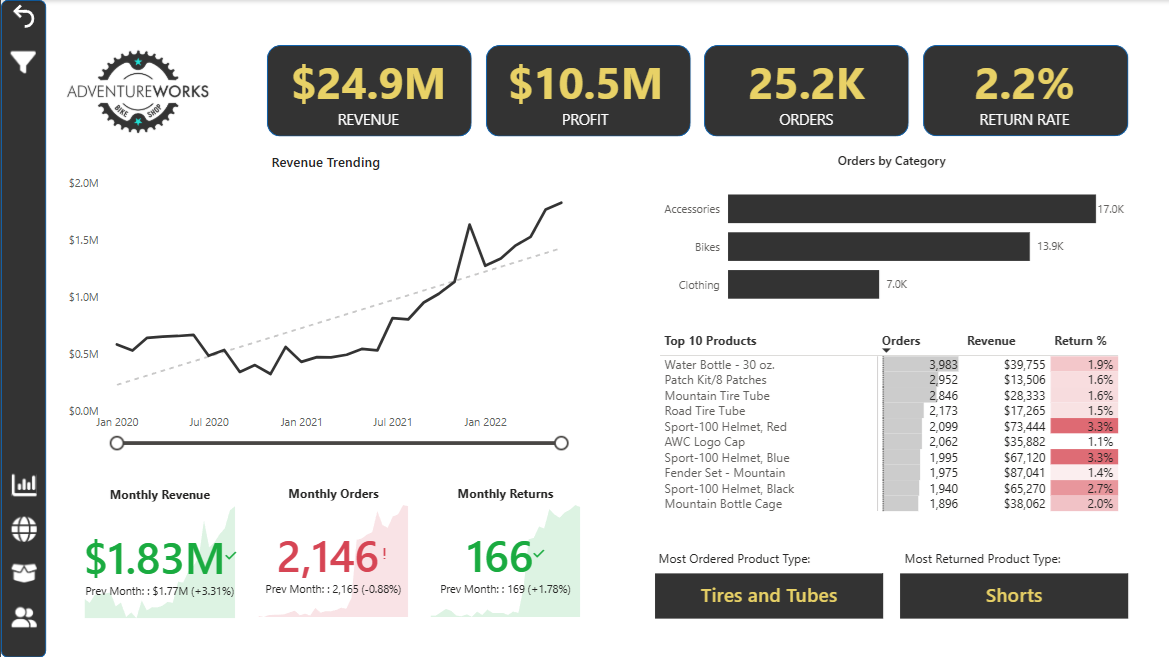

This screenshot's page, from the dashboard's own definition file:
{"tool":"powerbi","page":{"name":"Exec Dashboard","canvas":[1280,720],"ordinal":0},"visuals":[{"type":"shape","title":"LeftNavBackground","box":[0,0,49.6,720.6],"z":0},{"type":"group","id":"g1","title":"KPIBackground","box":[291.5,49.6,943.5,100.5],"z":0,"group":"g4"},{"type":"shape","title":"KPIBkgnd1","box":[291.5,49.6,224.5,100.5],"z":0,"group":"g1"},{"type":"card","title":"crd-Revenue","fields":{"Values":["MeasuresTable.Total Revenue"]},"box":[302.4,49.6,200,99.3],"z":0,"group":"g2"},{"type":"actionButton","title":"btnNavCustomerDetail","box":[7.8,658.8,35.6,35.6],"z":0,"group":"g3"},{"type":"group","id":"g2","title":"KPI Cards","box":[302.4,49.6,919,99.3],"z":1000,"group":"g4"},{"type":"shape","title":"KPIBkgnd2","box":[531,49.6,224.5,100.5],"z":1000,"group":"g1"},{"type":"card","title":"crd-Profit","fields":{"Values":["MeasuresTable.Total Profit"]},"box":[540,49.6,200,99.3],"z":1000,"group":"g2"},{"type":"group","id":"g3","title":"NavButtons","box":[7.8,514.4,35.6,180],"z":1000},{"type":"actionButton","title":"btnNavExecDashboard","box":[7.8,514.4,35.6,35.6],"z":1000,"group":"g3"},{"type":"actionButton","title":"FilterButton","box":[6.7,50,35.6,35.6],"z":1500},{"type":"image","title":"AWLogo","box":[50,0,200,200],"z":2000},{"type":"shape","title":"KPIBkgnd3","box":[770.5,49.6,224.5,100.5],"z":2000,"group":"g1"},{"type":"card","title":"crd-Order","fields":{"Values":["MeasuresTable.Total Orders"]},"box":[782.2,49.6,200,99.3],"z":2000,"group":"g2"},{"type":"actionButton","title":"btnNavMap","box":[7.8,562.5,35.6,35.6],"z":2000,"group":"g3"},{"type":"group","id":"g4","title":"KPIs","box":[291.5,49.6,943.5,100.5],"z":3000},{"type":"shape","title":"KPIBkgnd4","box":[1010,49.6,225,100],"z":3000,"group":"g1"},{"type":"card","title":"crd-Return","fields":{"Values":["MeasuresTable.Return Rate"]},"box":[1021.4,49.6,200,99.3],"z":3000,"group":"g2"},{"type":"actionButton","title":"btnNavProductDetail","box":[7.8,610.7,35.6,35.6],"z":3000,"group":"g3"},{"type":"lineChart","title":"Revenue Trending","fields":{"Y":["MeasuresTable.Total Revenue"],"Category":["Calendar Lookup.YearNumber","Calendar Lookup.Start of Quarter","Calendar Lookup.StartOfMonth"]},"box":[68.9,166.9,574,330.1],"z":4000},{"type":"kpi","title":"Monthly Revenue","fields":{"Indicator":["MeasuresTable.Total Revenue"],"TrendLine":["Calendar Lookup.StartOfMonth"],"Goal":["MeasuresTable.Previous Month Revenue"]},"box":[87,532.4,175,150],"z":5000},{"type":"kpi","title":"Monthly Orders","fields":{"TrendLine":["Calendar Lookup.StartOfMonth"],"Indicator":["MeasuresTable.Total Orders"],"Goal":["MeasuresTable.Previous Month Orders"]},"box":[276.8,531.8,174.1,149.6],"z":6000},{"type":"kpi","title":"Monthly Returns","fields":{"TrendLine":["Calendar Lookup.StartOfMonth"],"Indicator":["MeasuresTable.Total Returns"],"Goal":["MeasuresTable.Previous Month Returns"]},"box":[465.6,531.8,174.1,149.6],"z":7000},{"type":"clusteredBarChart","title":"Orders by Category","fields":{"Category":["Product Category Lookup.CategoryName"],"Y":["MeasuresTable.Total Orders"]},"box":[716.4,166.9,518.7,184.1],"z":8000},{"type":"pivotTable","fields":{"Rows":["Product Lookup.ProductName"],"Values":["MeasuresTable.Total Orders","MeasuresTable.Total Revenue","MeasuresTable.Return Rate"]},"box":[716.3,359.4,518.3,216.9],"z":9000},{"type":"card","fields":{"Values":["Min(Product Subcategory Lookup.SubcategoryName)"]},"box":[716.3,628,250,50],"z":10000},{"type":"textbox","box":[716,598,250,30],"z":11000},{"type":"card","fields":{"Values":["Min(Product Subcategory Lookup.SubcategoryName)"]},"box":[984.9,628,250,50],"z":12000},{"type":"textbox","box":[984.7,598,249.3,30],"z":13000},{"type":"actionButton","title":"ResetButton","box":[7.3,0,35,35],"z":14000}]}

Visuals, with their boxes in screenshot pixels (x1, y1, x2, y2), scaled from the page's 1280x720 canvas onto the 1169x657 screenshot:
"LeftNavBackground" shape: rect(0, 0, 45, 656)
"KPIBackground" group: rect(266, 45, 1128, 137)
"KPIBkgnd1" shape: rect(266, 45, 471, 137)
"crd-Revenue" card: rect(276, 45, 459, 136)
"btnNavCustomerDetail" actionButton: rect(7, 601, 40, 634)
"KPI Cards" group: rect(276, 45, 1115, 136)
"KPIBkgnd2" shape: rect(485, 45, 690, 137)
"crd-Profit" card: rect(493, 45, 676, 136)
"NavButtons" group: rect(7, 469, 40, 634)
"btnNavExecDashboard" actionButton: rect(7, 469, 40, 502)
"FilterButton" actionButton: rect(6, 46, 39, 78)
"AWLogo" image: rect(46, 0, 228, 182)
"KPIBkgnd3" shape: rect(704, 45, 909, 137)
"crd-Order" card: rect(714, 45, 897, 136)
"btnNavMap" actionButton: rect(7, 513, 40, 546)
"KPIs" group: rect(266, 45, 1128, 137)
"KPIBkgnd4" shape: rect(922, 45, 1128, 137)
"crd-Return" card: rect(933, 45, 1115, 136)
"btnNavProductDetail" actionButton: rect(7, 557, 40, 590)
"Revenue Trending" lineChart: rect(63, 152, 587, 454)
"Monthly Revenue" kpi: rect(79, 486, 239, 623)
"Monthly Orders" kpi: rect(253, 485, 412, 622)
"Monthly Returns" kpi: rect(425, 485, 584, 622)
"Orders by Category" clusteredBarChart: rect(654, 152, 1128, 320)
pivotTable - Product Lookup.ProductName x MeasuresTable.Total Orders: rect(654, 328, 1128, 526)
card - Min(Product Subcategory Lookup.SubcategoryName): rect(654, 573, 883, 619)
textbox: rect(654, 546, 882, 573)
card - Min(Product Subcategory Lookup.SubcategoryName): rect(899, 573, 1128, 619)
textbox: rect(899, 546, 1127, 573)
"ResetButton" actionButton: rect(7, 0, 39, 32)
